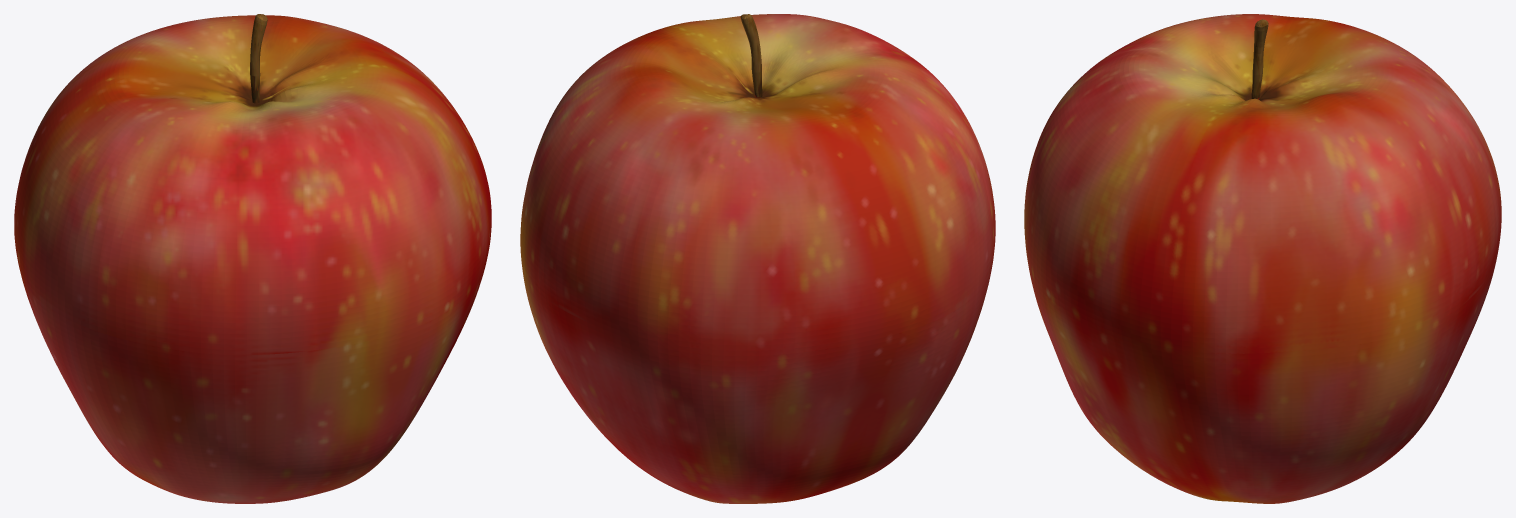
File: apple.obj
The picture shows the model from 3 angles, left to right: view 1: azimuth 30°, elevation 25°; view 2: azimuth 150°, elevation 25°; view 3: azimuth 270°, elevation 25°; orthographic projection.
Parts seen in each view (by area): view 1: Apple, Cylinder; view 2: Apple, Cylinder; view 3: Apple, Cylinder.
Boxes of the visible parts, box(x1,y1,x2,y2) form: Apple: box(14, 15, 491, 503); Cylinder: box(250, 14, 267, 103); Apple: box(520, 14, 995, 503); Cylinder: box(740, 14, 762, 97); Apple: box(1024, 14, 1501, 503); Cylinder: box(1251, 19, 1268, 99).
Size of the model in its own units: 1.98 by 2.13 by 1.99.
